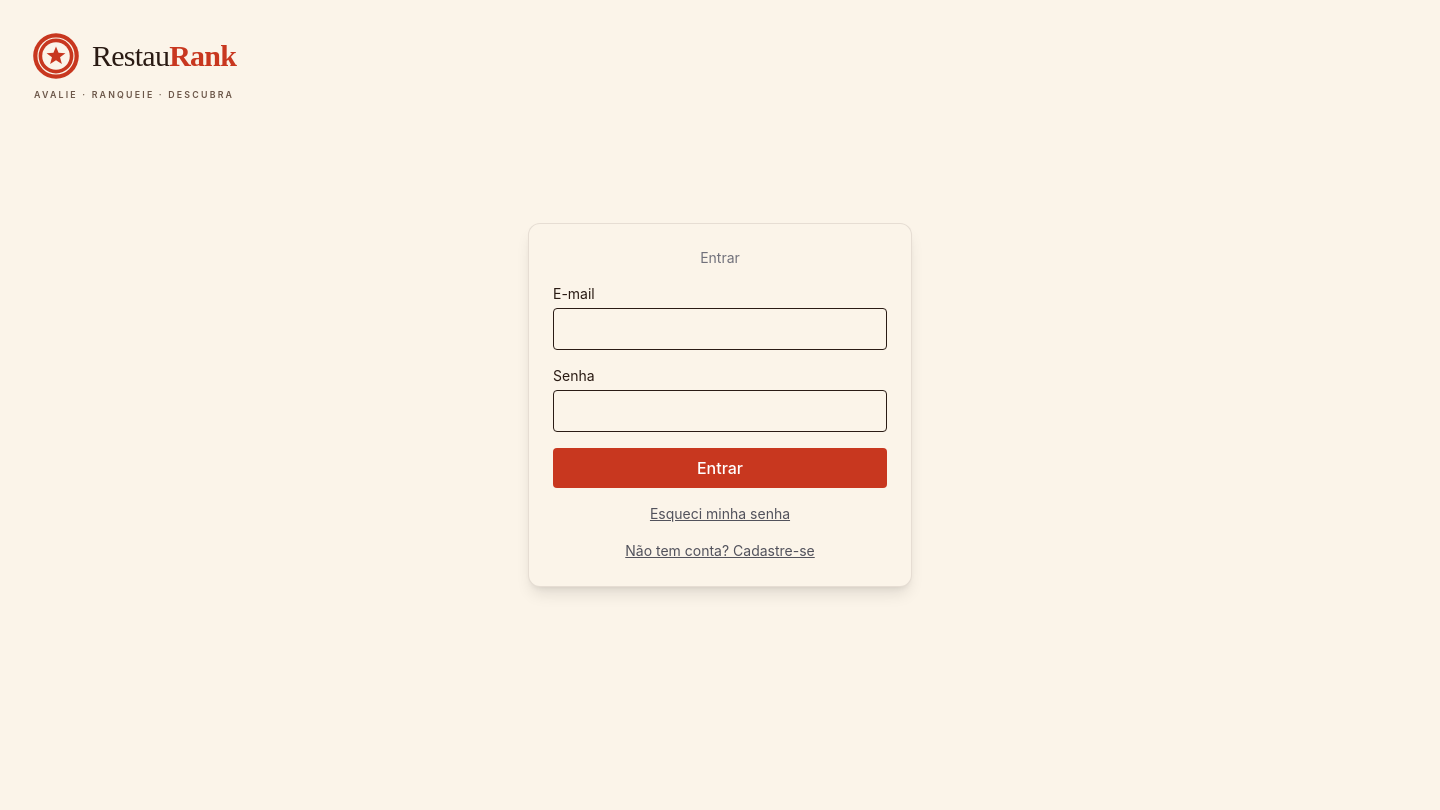
Test: integração da aplicação autenticada › busca e abre um perfil e volta à página inicial pela logo
In the field labelled "E-mail": (720,329) x1=553 y1=308 x2=887 y2=350, type "ana@example.com"
In the password field labelled "Senha": (720,411) x1=553 y1=390 x2=887 y2=432, type "senha"
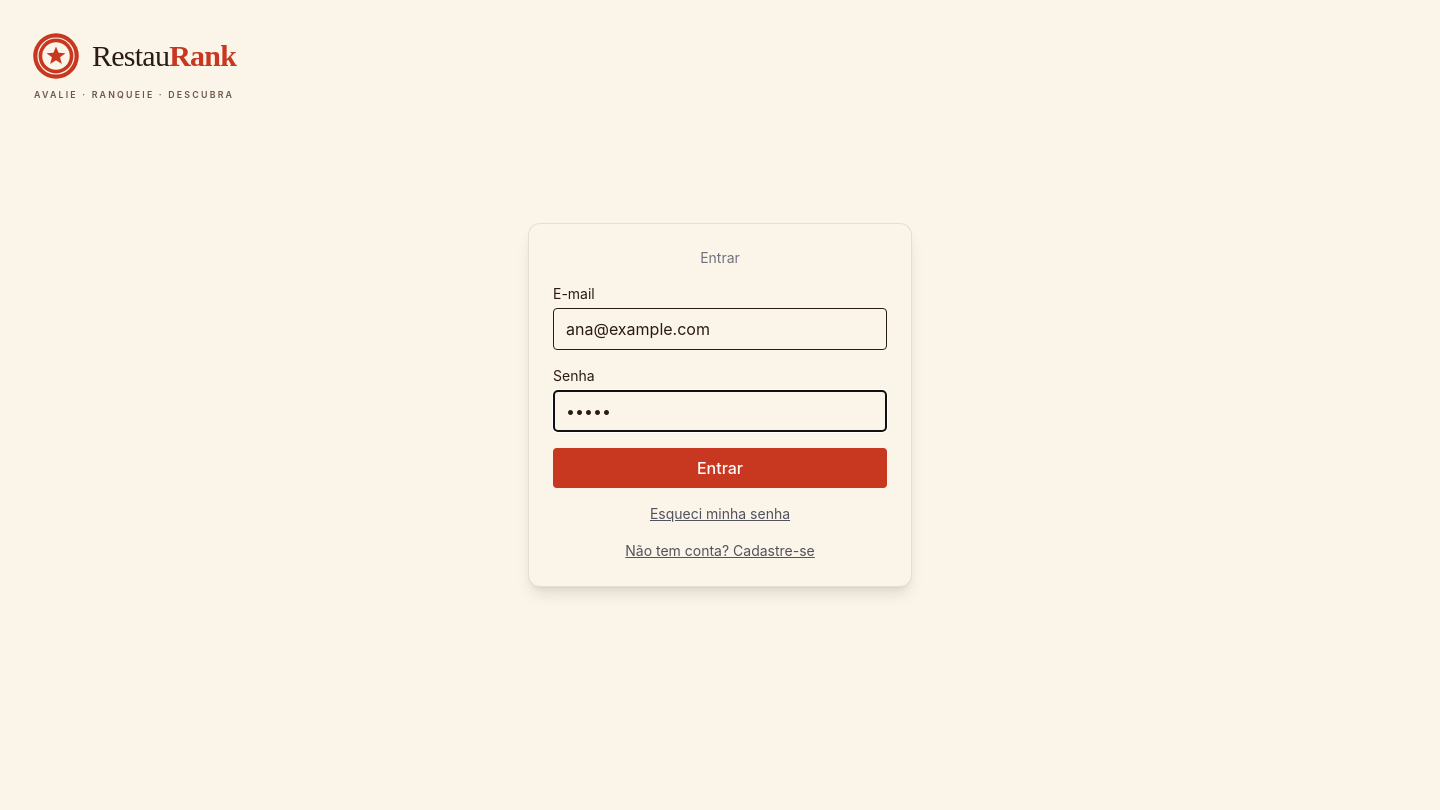
Click the button "Entrar": (720,468) x1=553 y1=448 x2=887 y2=488
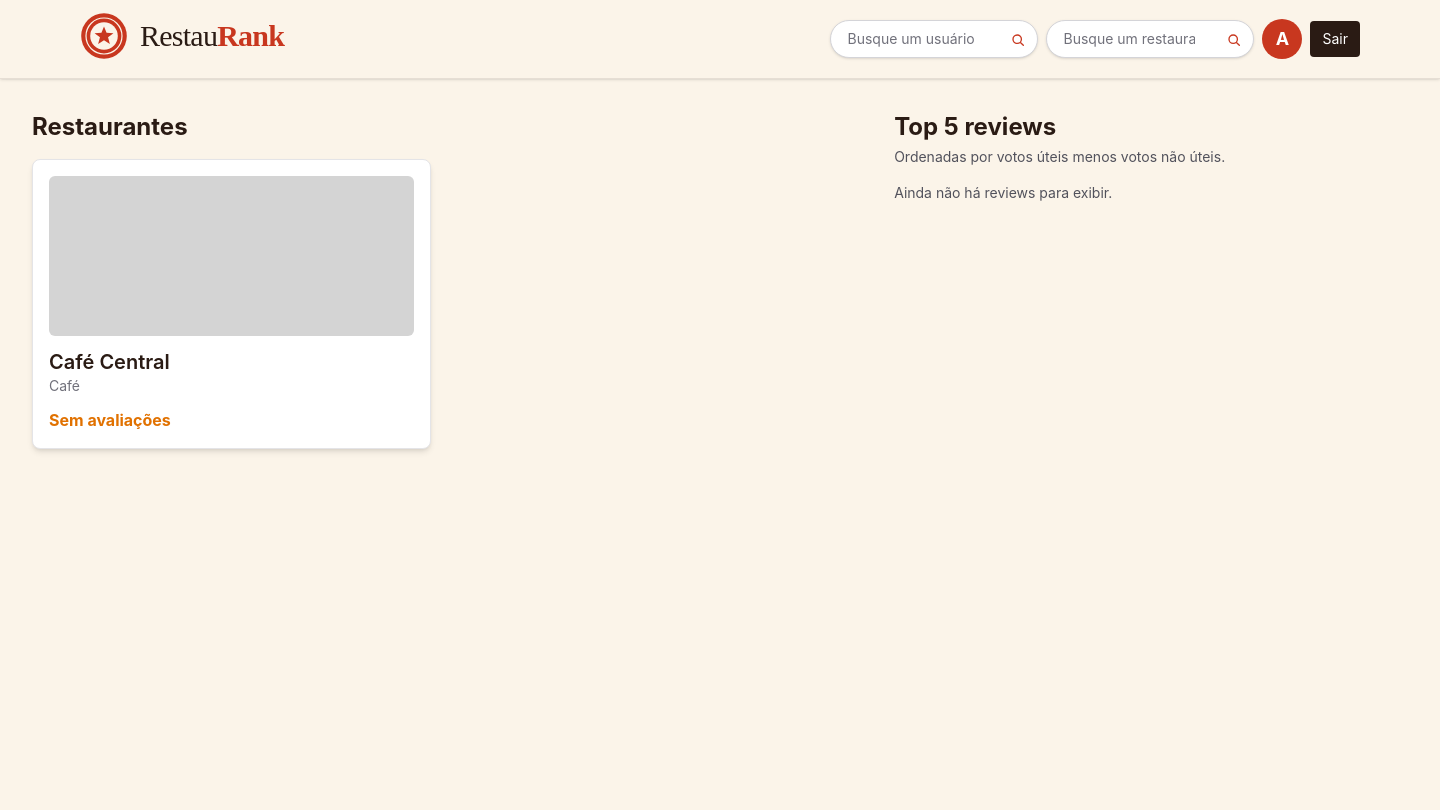
Check: the search field labelled "Busque um restaurante" is shown, box x1=1046 y1=20 x2=1254 y2=58
In the search field labelled "Busque um usuário": (934,39) x1=830 y1=20 x2=1038 y2=58, type "ana"
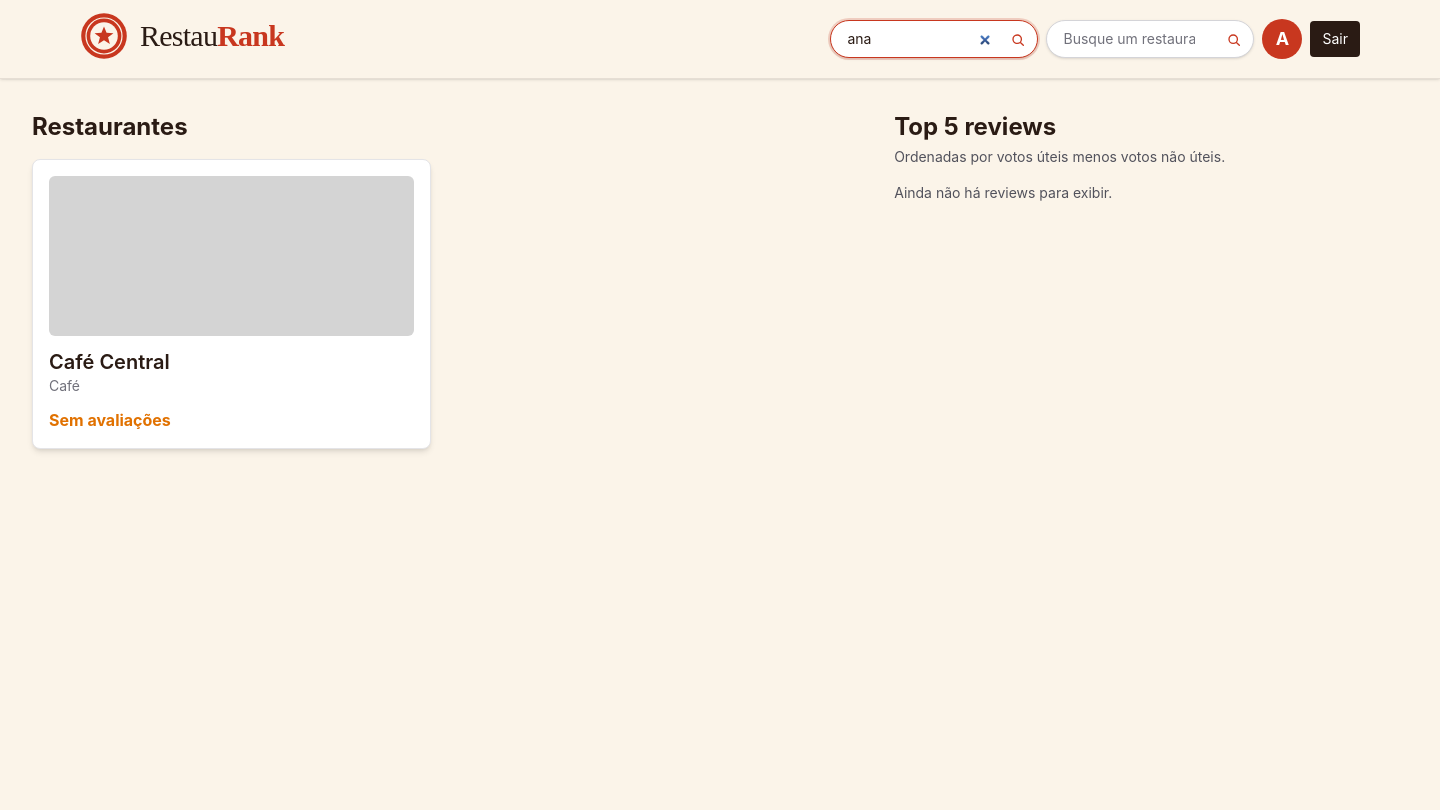
Click the button named "Buscar usuário": (1018,40) x1=1002 y1=24 x2=1034 y2=56
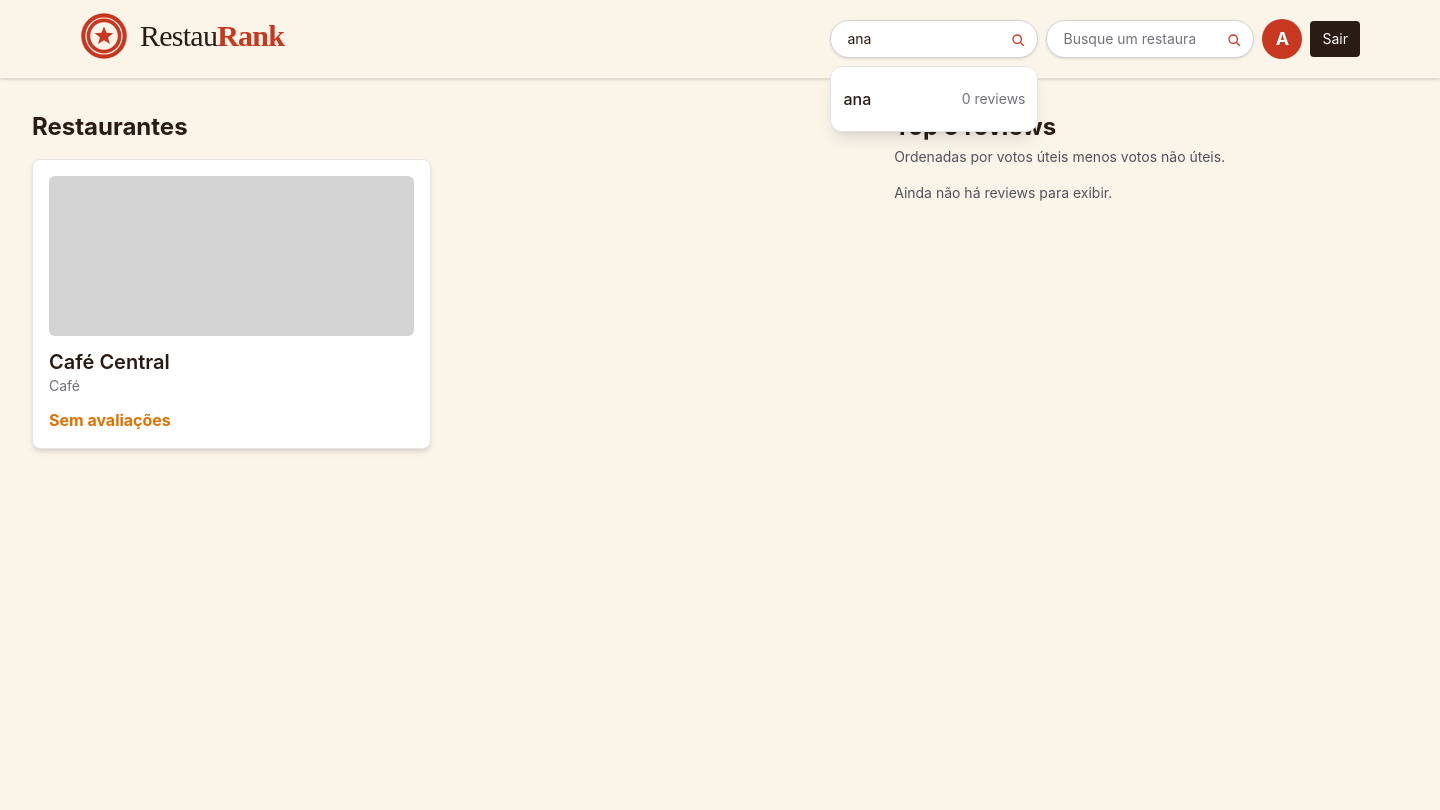
Click the button "ana 0 reviews": (934,99) x1=844 y1=79 x2=1026 y2=119
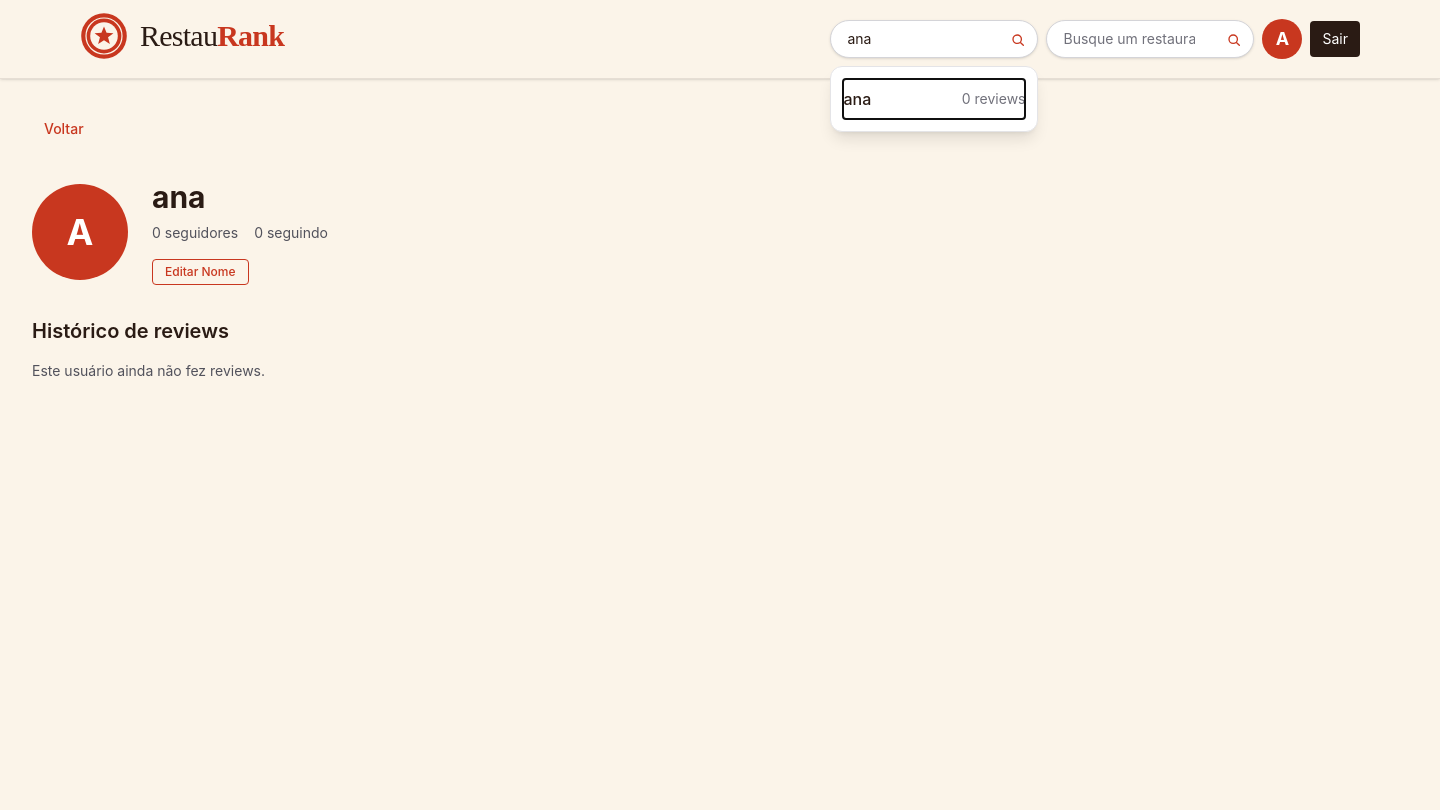
Check: the heading "ana" is shown, box x1=152 y1=179 x2=206 y2=215
Click the button with aria-label "Ir para a página inicial": (182,39) x1=80 y1=12 x2=284 y2=66
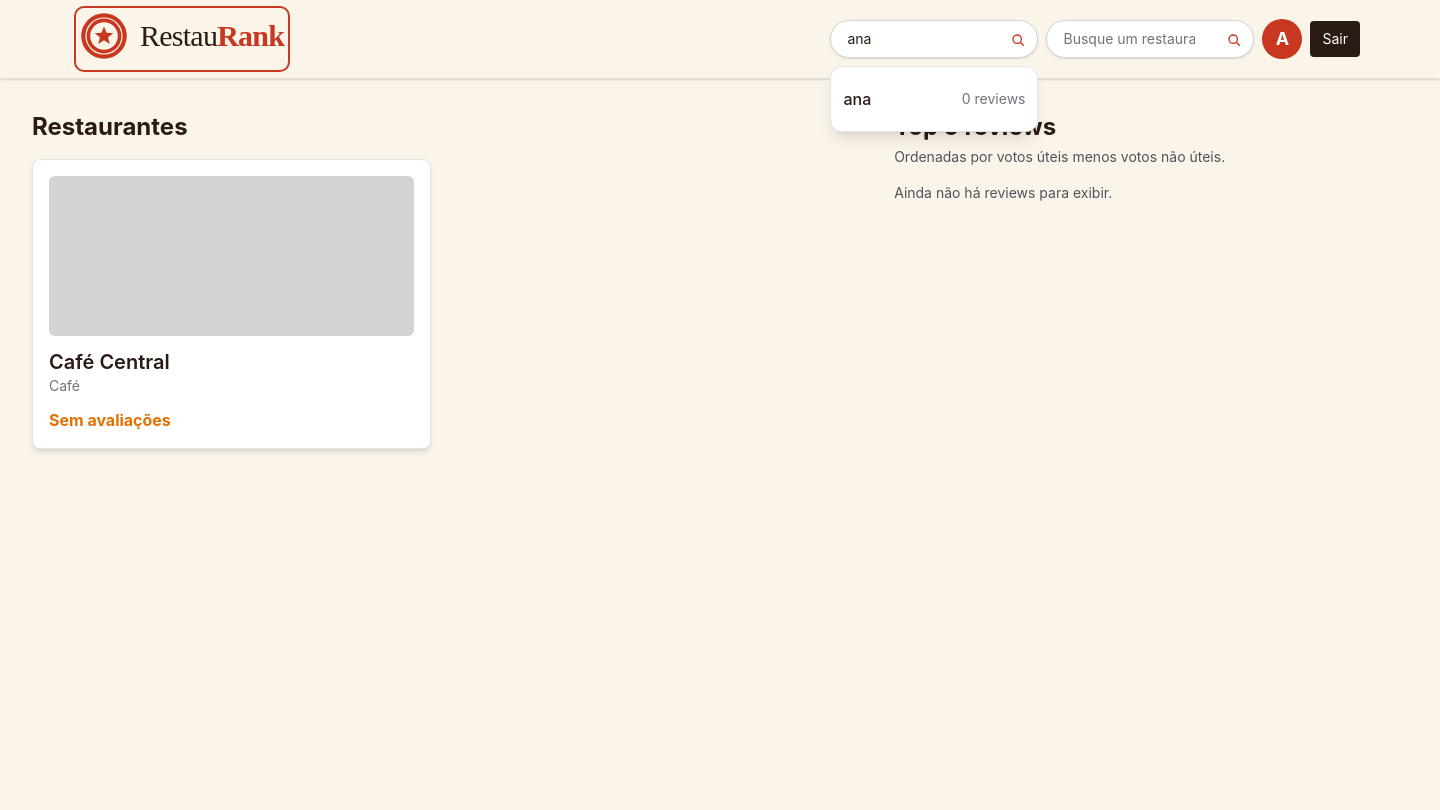
Check: the heading "Restaurantes" is shown, box x1=32 y1=112 x2=188 y2=141
